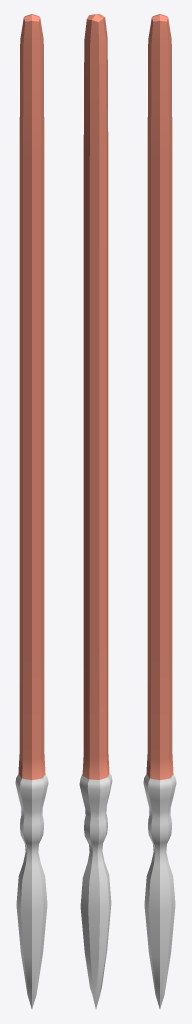
Rendered from mızrak.fbx.
3 renders of one model, left to right at view 1: azimuth 90°, elevation 25°; view 2: azimuth 150°, elevation 25°; view 3: azimuth 270°, elevation 25°, orthographic.
Visible parts, largest first — view 1: Cube.002; view 2: Cube.002; view 3: Cube.002.
Boxes of the visible parts, x1,y1,x2,y2 form: Cube.002: (15, 14, 48, 1008); Cube.002: (79, 14, 112, 1008); Cube.002: (143, 14, 176, 1008).
Size of the model in its own units: 123 by 4080 by 123.
